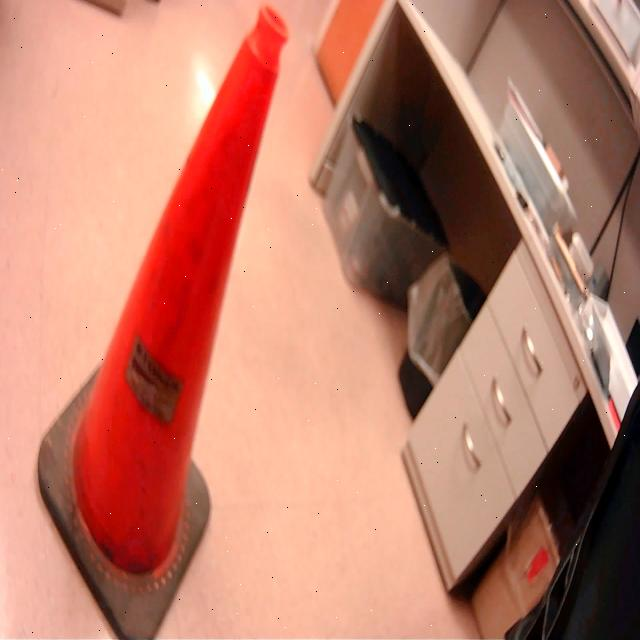traffic cone: (34, 3, 295, 640)
